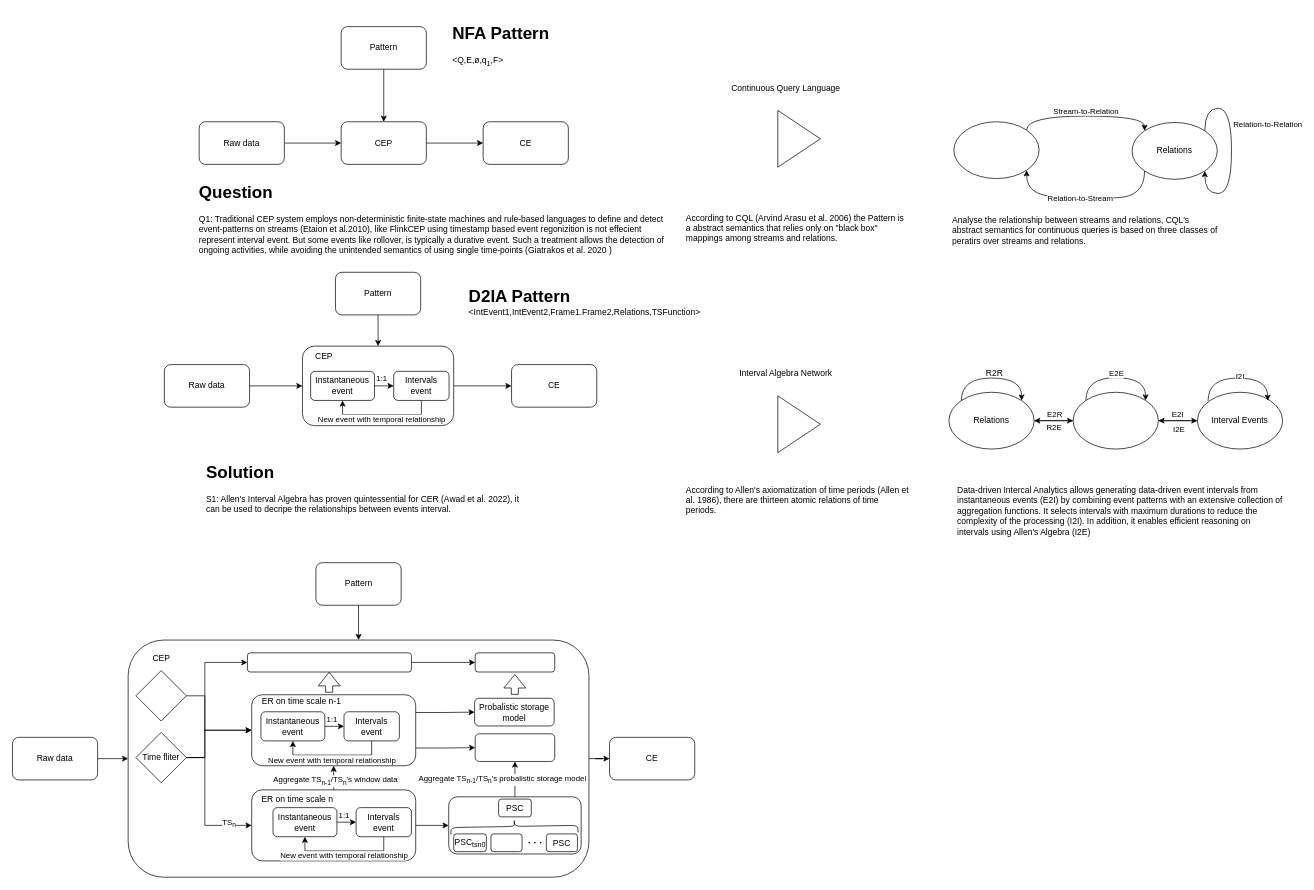
Image size: 1314x890. Some labels were removed from this diagram. Here are the shapes that lost their labels. From the top down, the centre of each, then its label:
At point (996, 150): "Streams".
At point (1115, 420): "Event Streams".
At point (329, 662): "ER on time scale 1".
At point (514, 662): "Hot Words Event & IE needed query".
At point (160, 695): "Pattern decompose".
At point (514, 747): "Hot Words Event & IE needede query at window TS ni".
At point (506, 842): "PSC tsn1".
